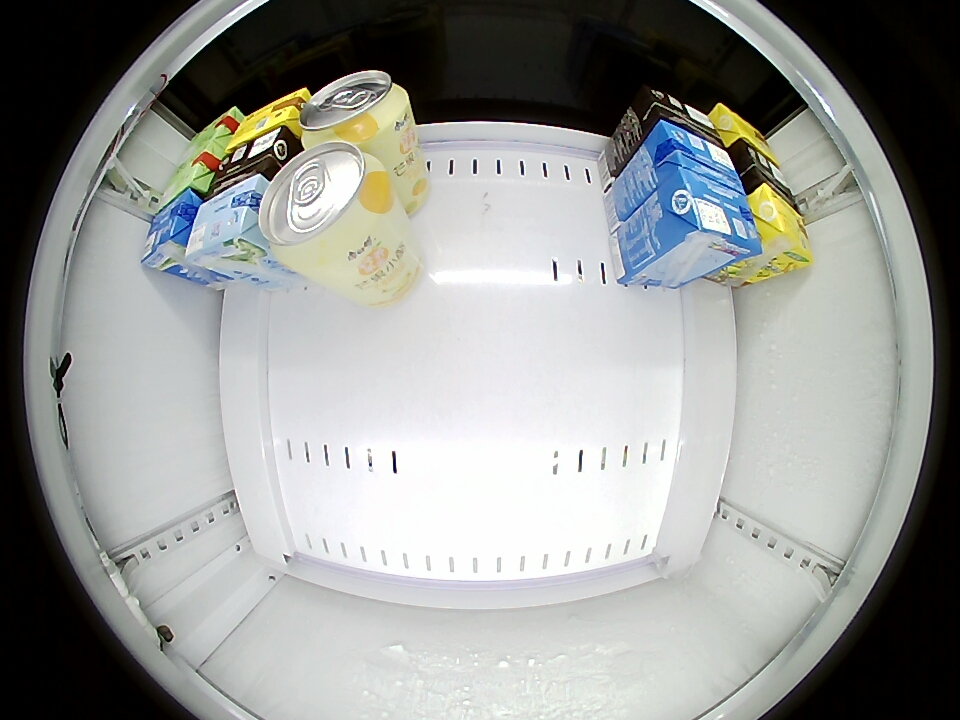mangguoxiaolao: (260, 140, 392, 276), (298, 70, 408, 146)
wanglaoji: (161, 138, 229, 207), (179, 107, 243, 163)
weitanai: (652, 163, 761, 264), (645, 121, 743, 189), (140, 191, 202, 273)
weitanai2: (210, 125, 294, 196), (631, 85, 724, 145), (730, 139, 795, 204)
weitanaiditang: (187, 173, 268, 269)
weitaningmeng: (746, 184, 813, 272), (228, 88, 311, 148), (712, 103, 780, 162)
